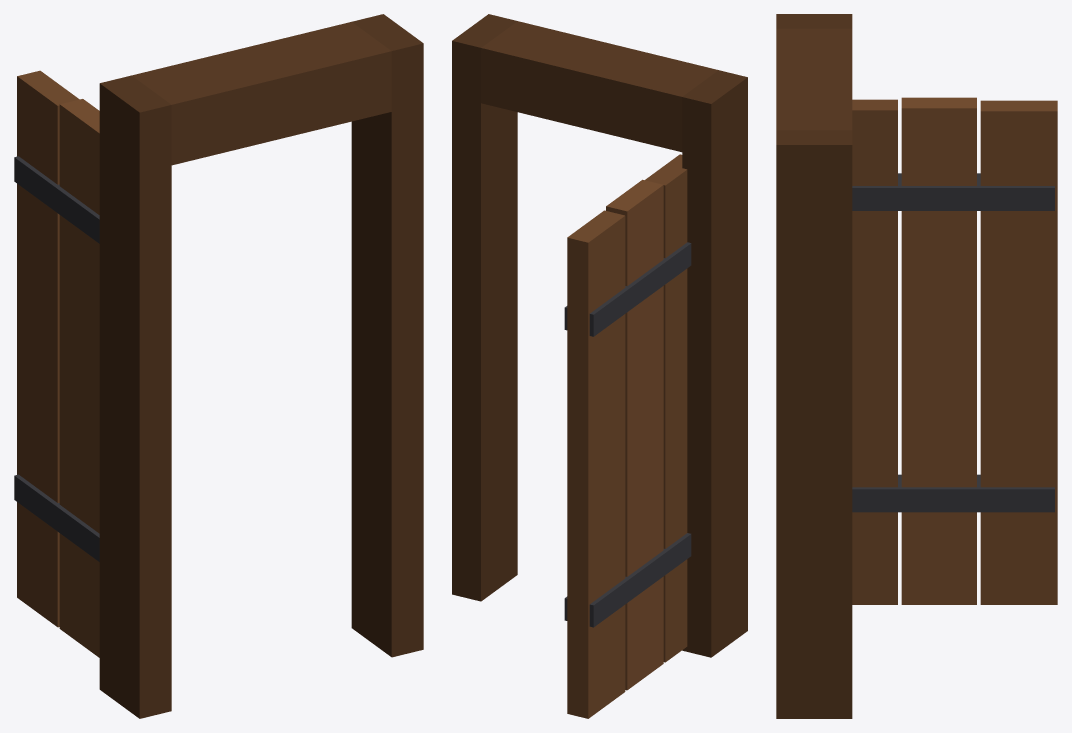
File: door_open.glb
The picture shows the model from 3 angles, left to right: view 1: azimuth 30°, elevation 25°; view 2: azimuth 150°, elevation 25°; view 3: azimuth 270°, elevation 25°; orthographic projection. The views are drawn at different scales.
Parts seen in each view (by area): view 1: door_open; view 2: door_open; view 3: door_open.
Part boxes in pixels (x1,y1,x2,y2): door_open: (14,14,423,718); door_open: (452,14,747,718); door_open: (776,14,1057,718).
Size of the model in its own units: 0.98 by 2 by 0.889.
